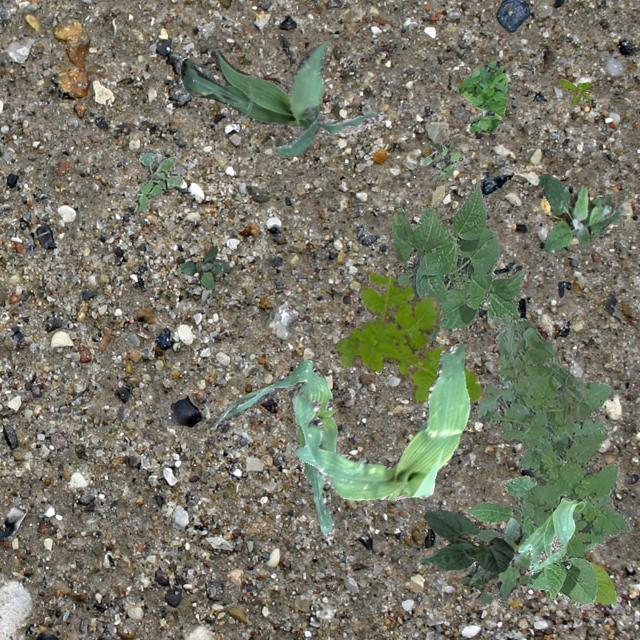crop: (290, 342, 470, 499), (180, 41, 386, 158), (208, 358, 336, 540), (391, 180, 524, 342), (466, 474, 596, 608), (420, 508, 512, 572), (516, 496, 586, 574), (590, 562, 616, 602)
weed: (476, 312, 630, 556), (334, 273, 484, 402), (538, 172, 620, 252), (468, 508, 528, 608), (458, 516, 532, 596), (458, 61, 507, 136), (136, 148, 182, 212), (178, 245, 228, 288), (418, 142, 459, 182), (558, 78, 590, 104)
